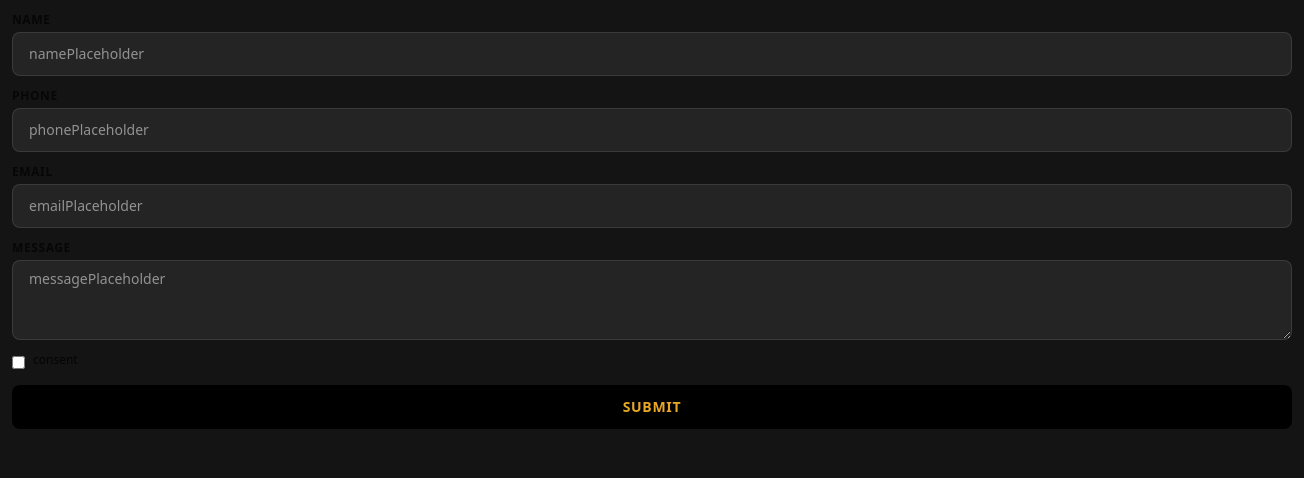
Test: <ContactForm /> › shows rate-limit message on rate-limit error
Type "Jan Kowalski" into the field with placeholder "namePlaceholder" at (652, 54), box [12,32,1292,76]
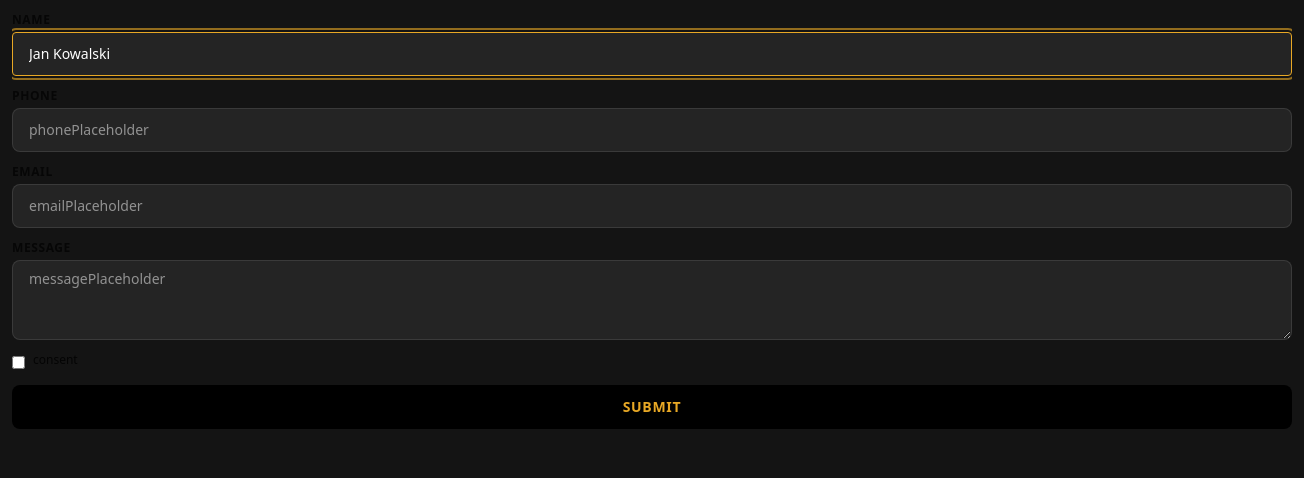
Type "+48 500 100 200" into the field with placeholder "phonePlaceholder" at (652, 130), box [12,108,1292,152]
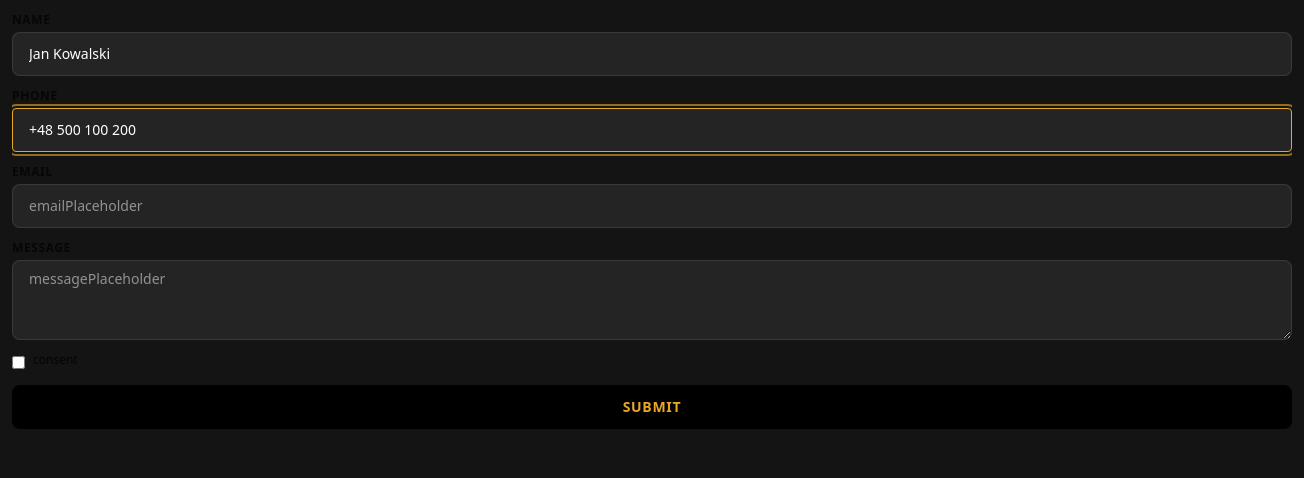
Click the checkbox at (18, 362), box [12,356,25,369]
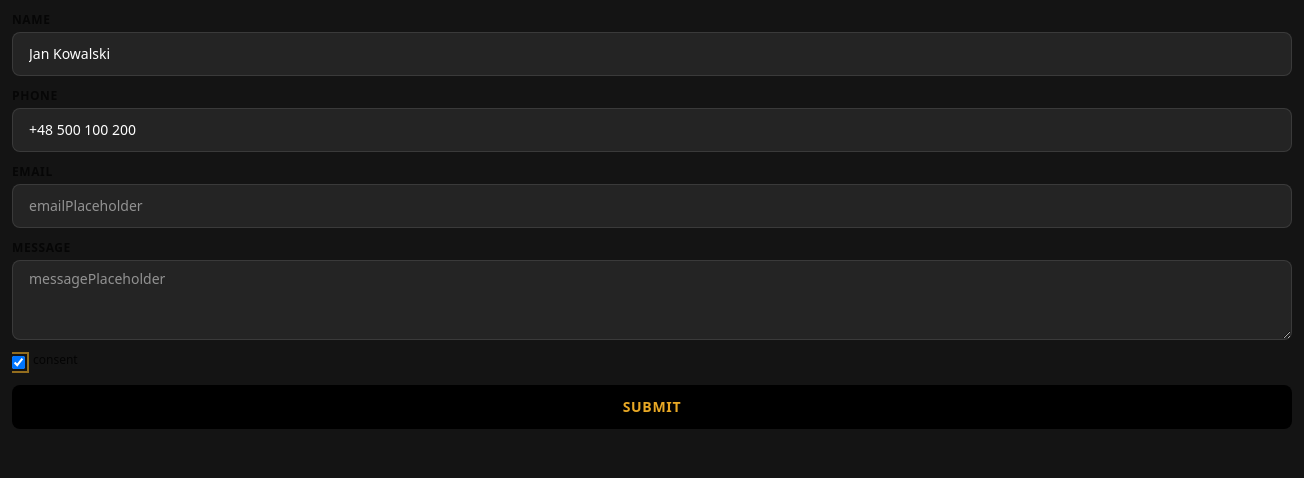
Click the button "submit" at (652, 407), box [12,385,1292,429]
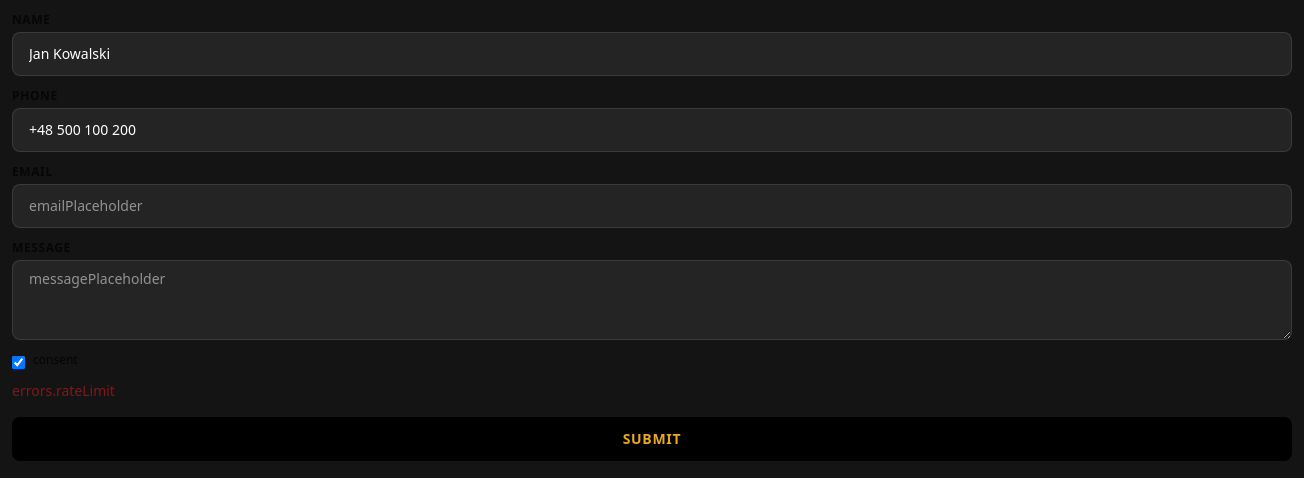
expect the text "errors.rateLimit" is shown: met, box [12,381,115,400]
